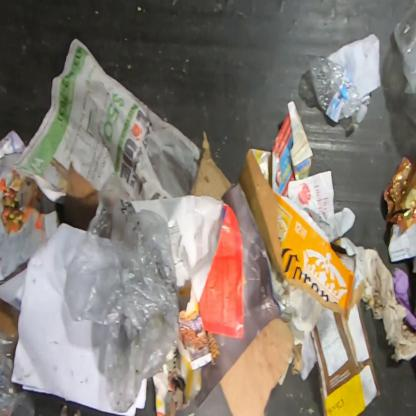cardboard: (236, 149, 354, 319), (310, 242, 381, 416), (219, 316, 304, 416), (190, 129, 232, 200), (62, 165, 101, 233)
rigid_plastic: (310, 55, 369, 125)
soft_plastic: (64, 170, 180, 398), (0, 331, 44, 415), (393, 12, 415, 96)
